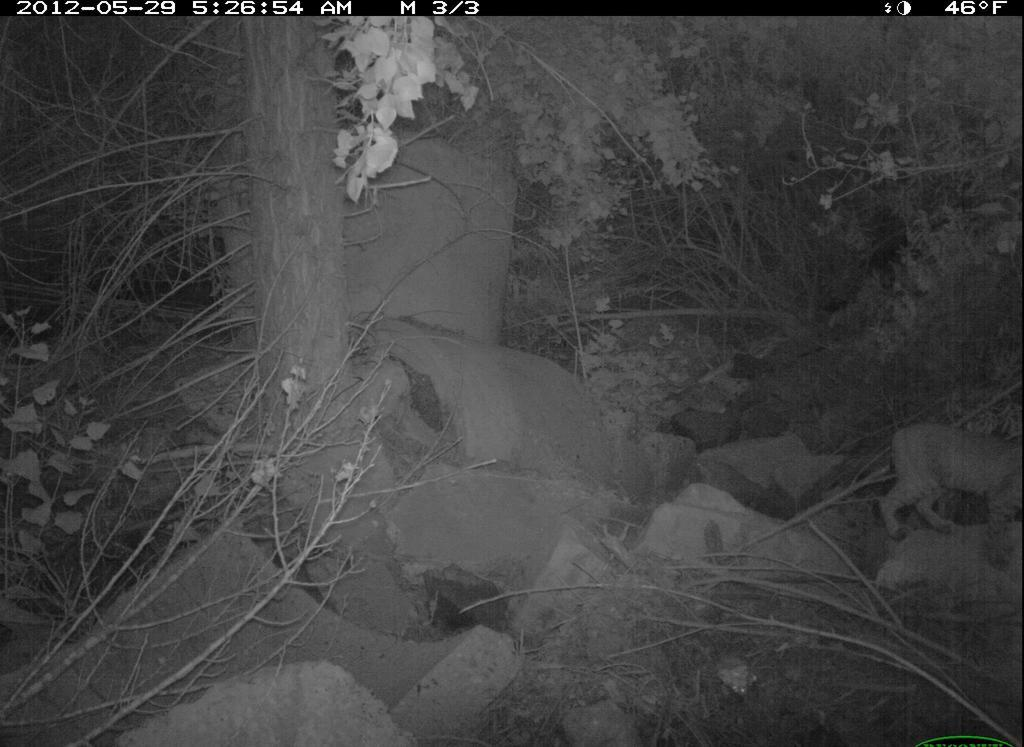bobcat: (867, 415, 1023, 564)
